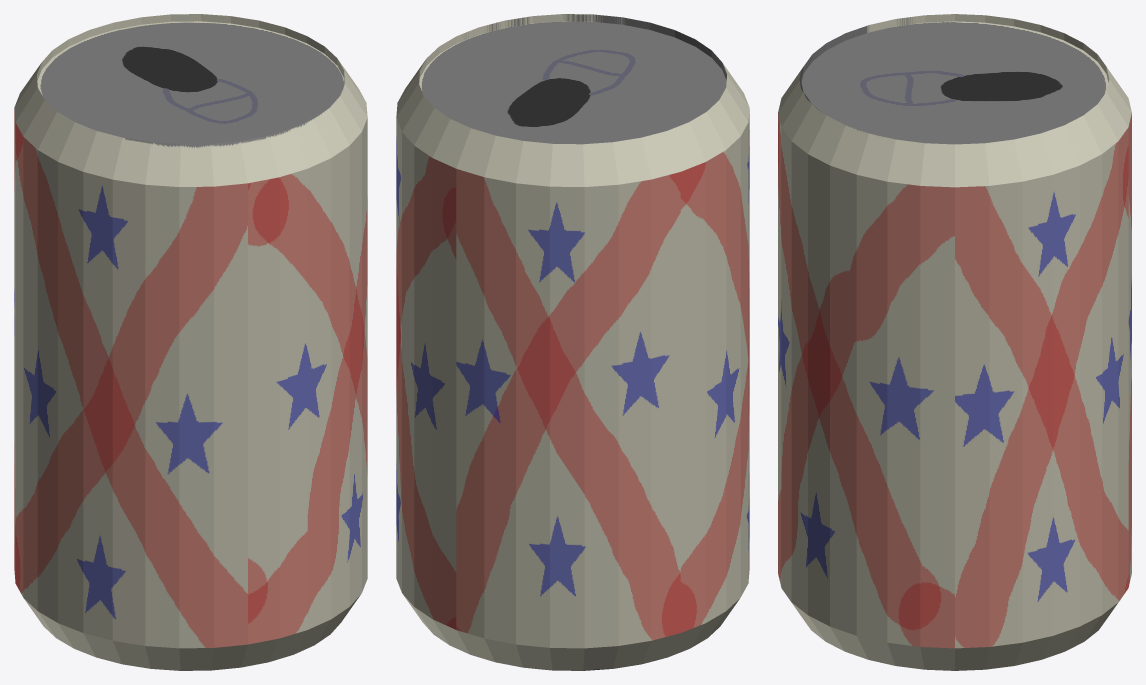
File: DrinkCan.fbx
3 views of the same model, side by side, from view 1: azimuth 30°, elevation 25°; view 2: azimuth 150°, elevation 25°; view 3: azimuth 270°, elevation 25° (orthographic).
Parts seen in each view (by area): view 1: Cylinder; view 2: Cylinder; view 3: Cylinder.
Part boxes in pixels (x1,y1,x2,y2): Cylinder: (14, 14, 367, 670); Cylinder: (396, 14, 749, 670); Cylinder: (778, 14, 1131, 670).
Size of the model in its own units: 200 by 328 by 200.
